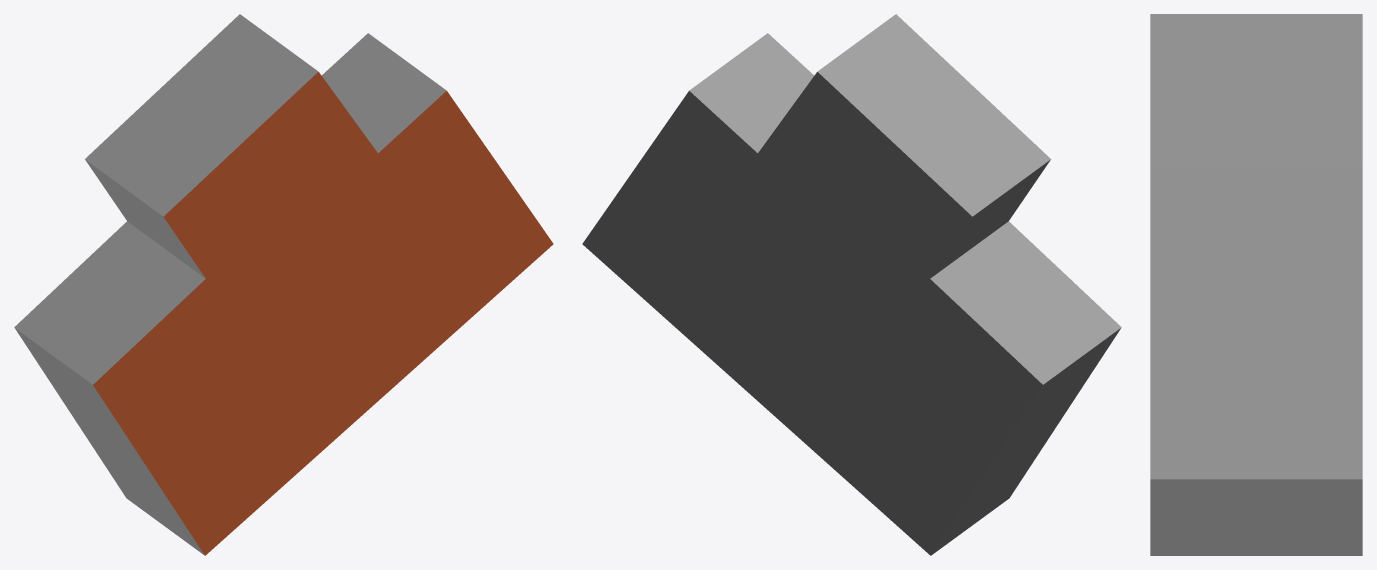
The model's file is construction_1703_assumed_A_Casa_h6m.obj.
3 renders of one model, left to right at view 1: azimuth 30°, elevation 25°; view 2: azimuth 150°, elevation 25°; view 3: azimuth 270°, elevation 25°, orthographic. The views are drawn at different scales.
Visible parts, largest first — view 1: construction_1703_assumed_A_Casa; view 2: construction_1703_assumed_A_Casa; view 3: construction_1703_assumed_A_Casa.
Part boxes in pixels (bbox=[...]): construction_1703_assumed_A_Casa: bbox=[14, 14, 553, 555]; construction_1703_assumed_A_Casa: bbox=[582, 14, 1121, 555]; construction_1703_assumed_A_Casa: bbox=[1150, 14, 1362, 555].
Bounding box in the file's own units: 20.28 × 19.21 × 6.
